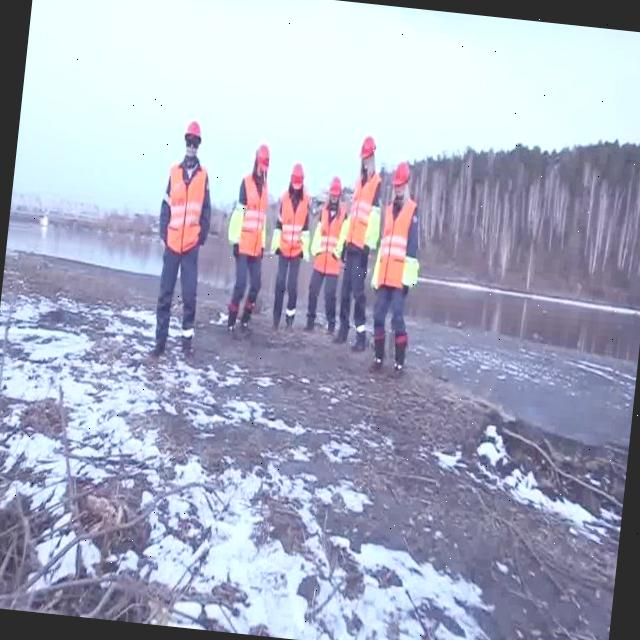vest: (152, 162, 213, 258), (228, 172, 276, 268), (376, 194, 422, 292), (163, 164, 210, 252), (376, 193, 416, 290), (234, 168, 274, 259), (342, 170, 383, 256), (274, 181, 314, 259), (274, 188, 314, 261), (310, 204, 347, 279), (345, 169, 380, 246), (313, 202, 348, 278), (226, 197, 245, 248), (366, 200, 382, 252), (308, 216, 324, 260), (402, 254, 418, 288), (298, 225, 311, 262), (270, 224, 282, 256), (336, 218, 344, 258), (372, 248, 380, 286)
